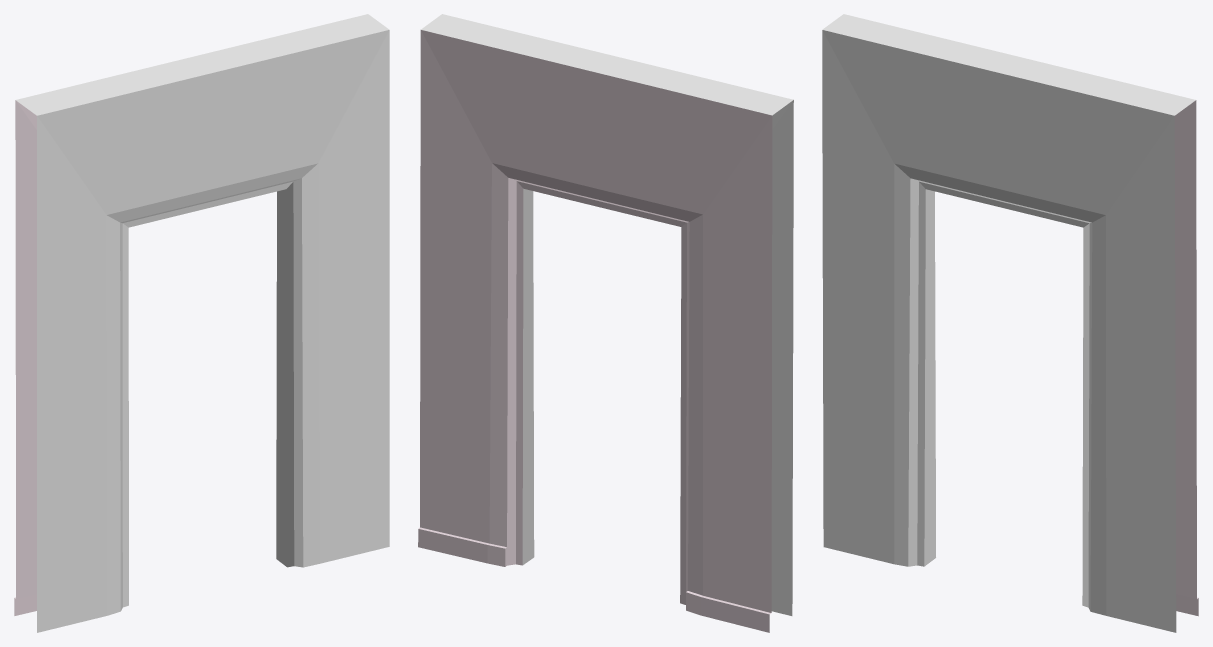
The model's file is env_wall_entry_rectangular_door_Ext.fbx.
3 renders of one model, left to right at view 1: azimuth 30°, elevation 25°; view 2: azimuth 150°, elevation 25°; view 3: azimuth 330°, elevation 25°, orthographic.
Parts seen in each view (by area): view 1: Casa pared rectang marco puerta Exterior; view 2: Casa pared rectang marco puerta Exterior; view 3: Casa pared rectang marco puerta Exterior.
Boxes of the visible parts, x1,y1,x2,y2 form: Casa pared rectang marco puerta Exterior: (14,14,389,632); Casa pared rectang marco puerta Exterior: (418,14,793,632); Casa pared rectang marco puerta Exterior: (822,14,1198,632).
Size of the model in its own units: 200 by 280 by 23.
Materials: 2 (2 with a texture image).
